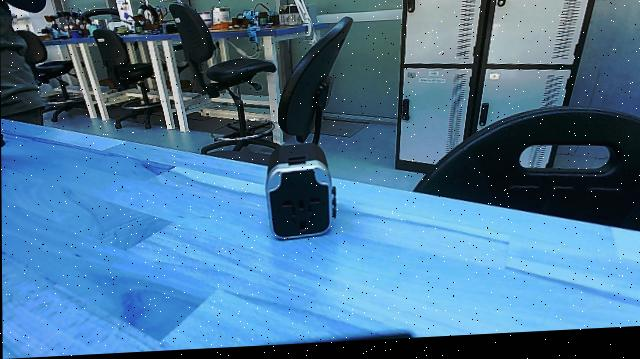adapter: (252, 138, 342, 258)
